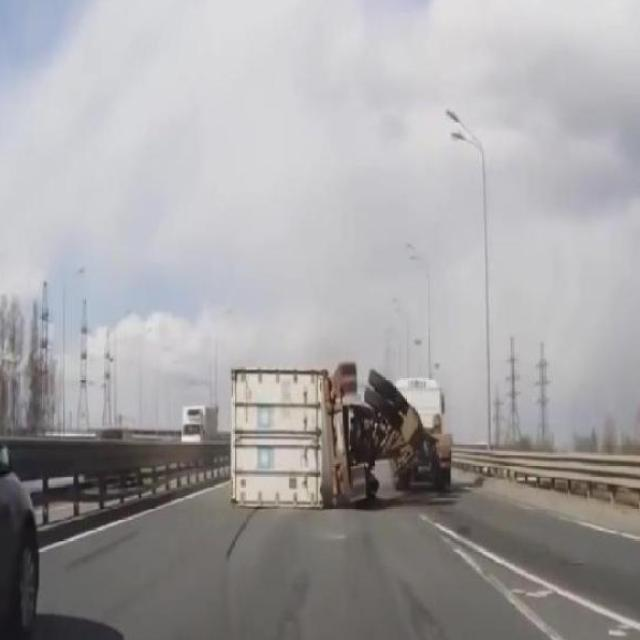accident: (223, 347, 429, 517)
